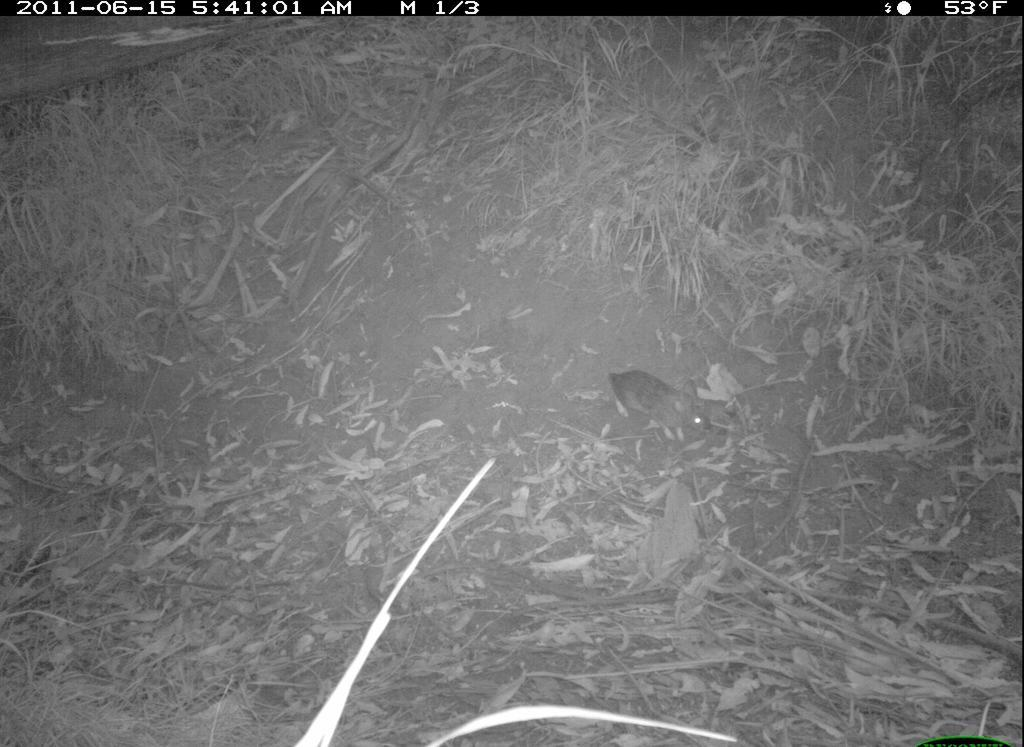rabbit: (602, 356, 737, 452)
